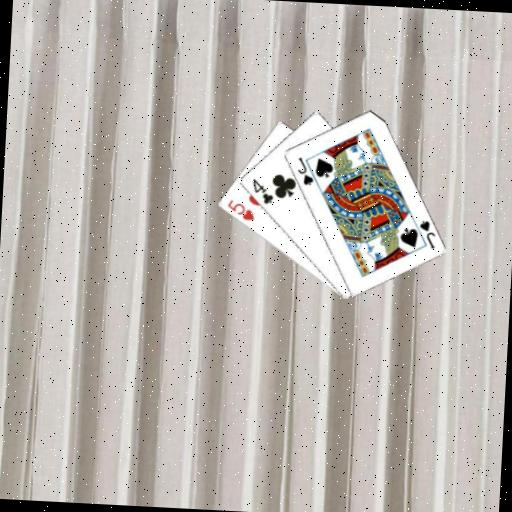4C: (248, 175, 276, 206)
5H: (223, 196, 256, 223)
JS: (293, 154, 316, 188), (416, 217, 438, 251)
